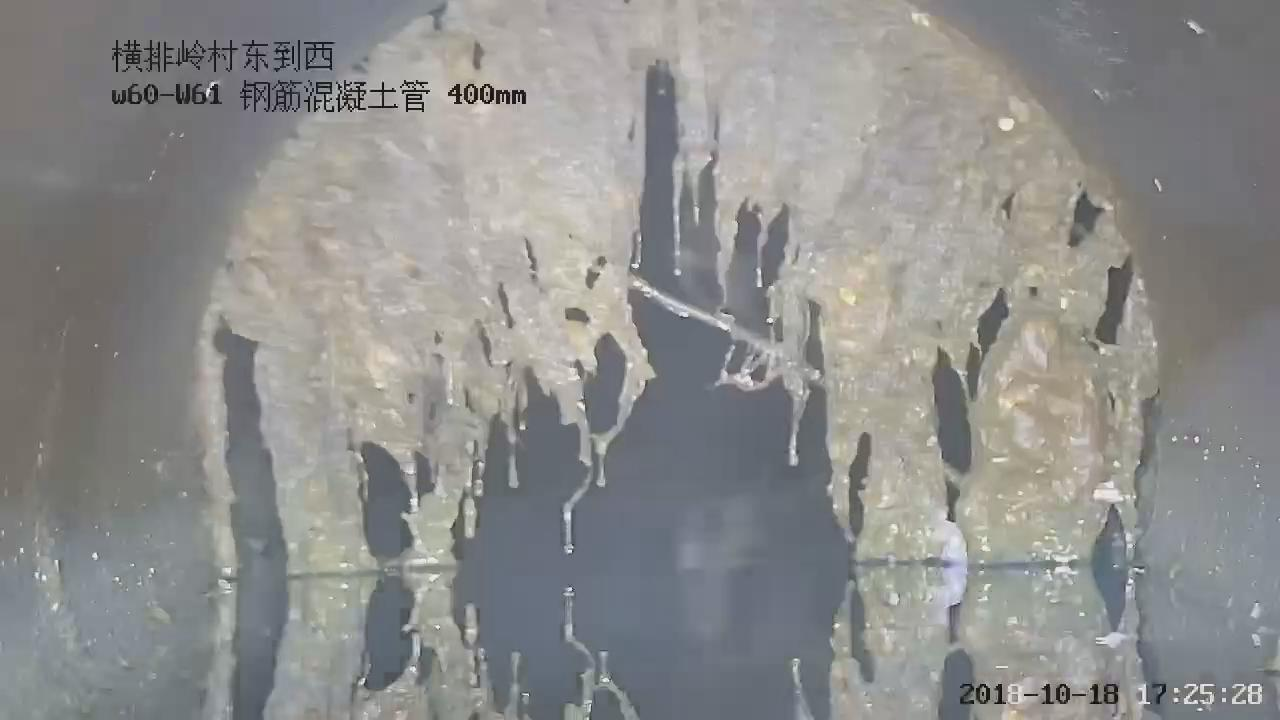SG: (206, 0, 1157, 574)
